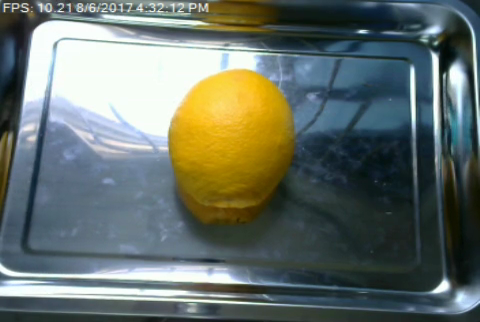Orange: (169, 68, 294, 209)
